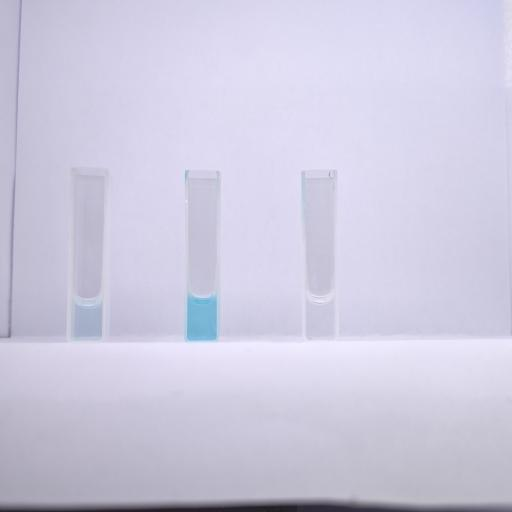cuvette: (67, 164, 110, 344), (182, 168, 223, 344), (300, 168, 340, 342)
liquid: (72, 296, 102, 340), (188, 295, 216, 339), (306, 294, 334, 338)
